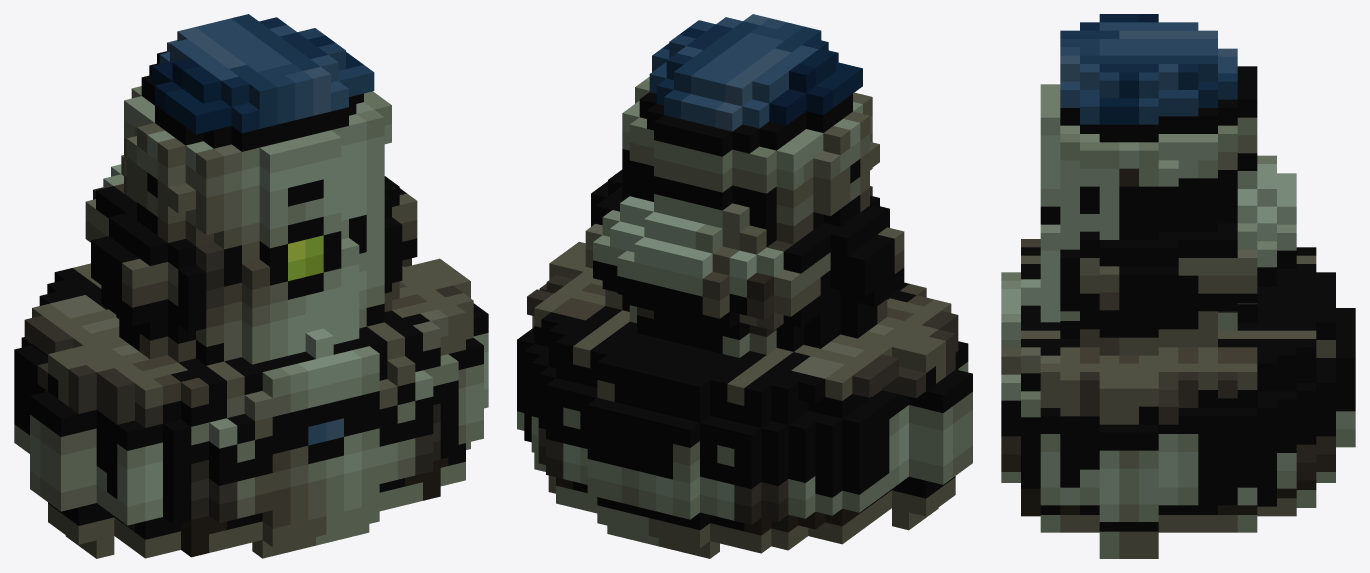
File: Icon_748_02.obj
The picture shows the model from 3 angles, left to right: view 1: azimuth 30°, elevation 25°; view 2: azimuth 150°, elevation 25°; view 3: azimuth 270°, elevation 25°; orthographic projection. The views are drawn at different scales.
Bounding box in the file's own units: 2.4 × 2.4 × 1.8.
Materials: 1 (1 with a texture image).
